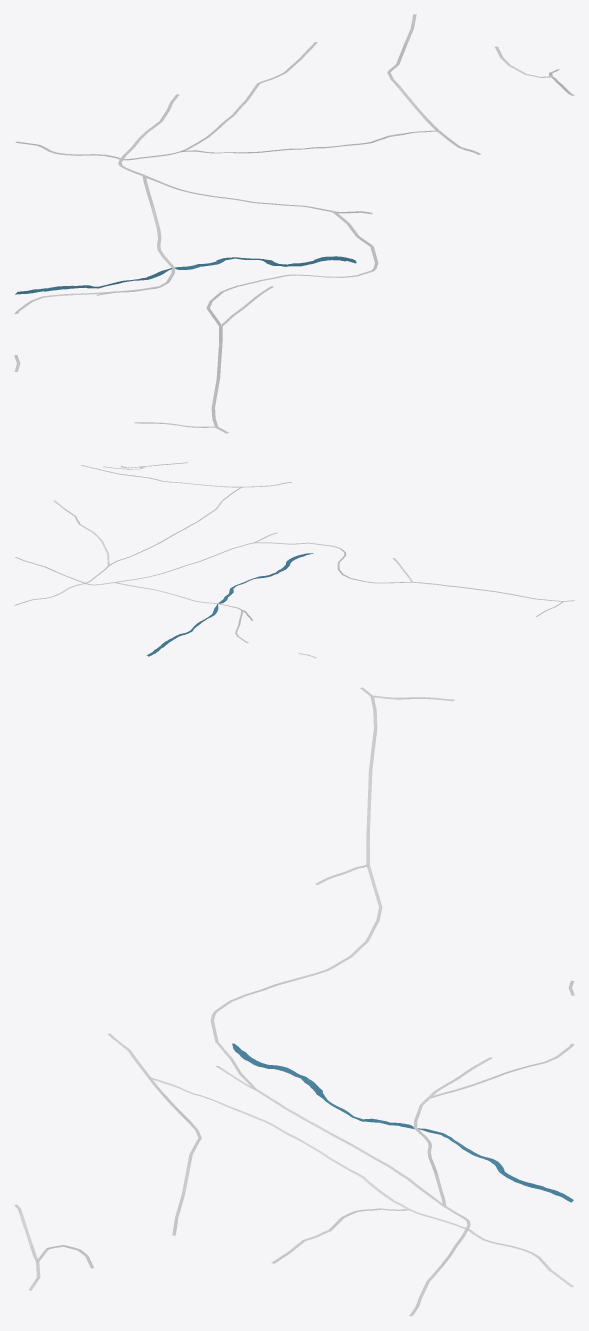
Rendered from objekty.glb.
3 renders of one model, top to bottom at view 1: azimuth 90°, elevation 25°; view 2: azimuth 150°, elevation 25°; view 3: azimuth 270°, elevation 25°, orthographic. The views are drawn at different scales.
Visible parts, largest first — view 1: Cesty_09_00, Voda_09_00; view 2: Cesty_09_00, Voda_09_00; view 3: Cesty_09_00, Voda_09_00.
Boxes of the visible parts, x1,y1,x2,y2 form: Cesty_09_00: (14, 14, 574, 433); Voda_09_00: (15, 256, 356, 294); Cesty_09_00: (14, 462, 574, 658); Voda_09_00: (147, 553, 313, 656); Cesty_09_00: (14, 687, 574, 1316); Voda_09_00: (232, 1043, 573, 1202).
Bounding box in the file's own units: 1001 × 180 × 490.
